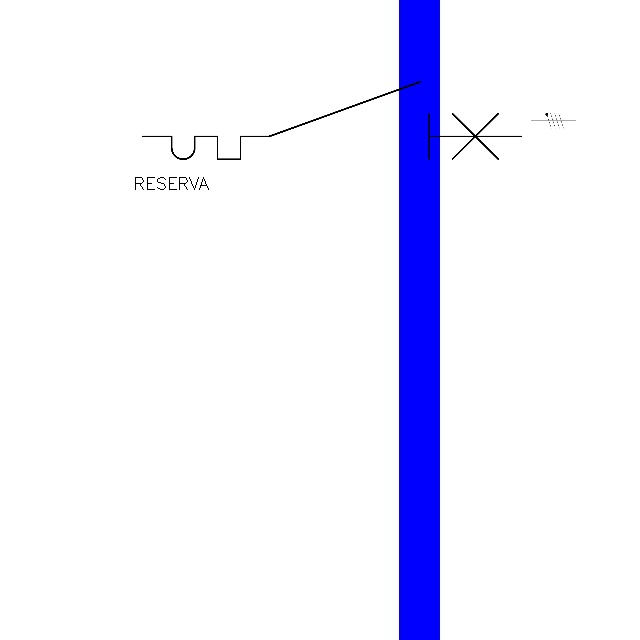interruptor_termomagnetico: (133, 72, 531, 169)
